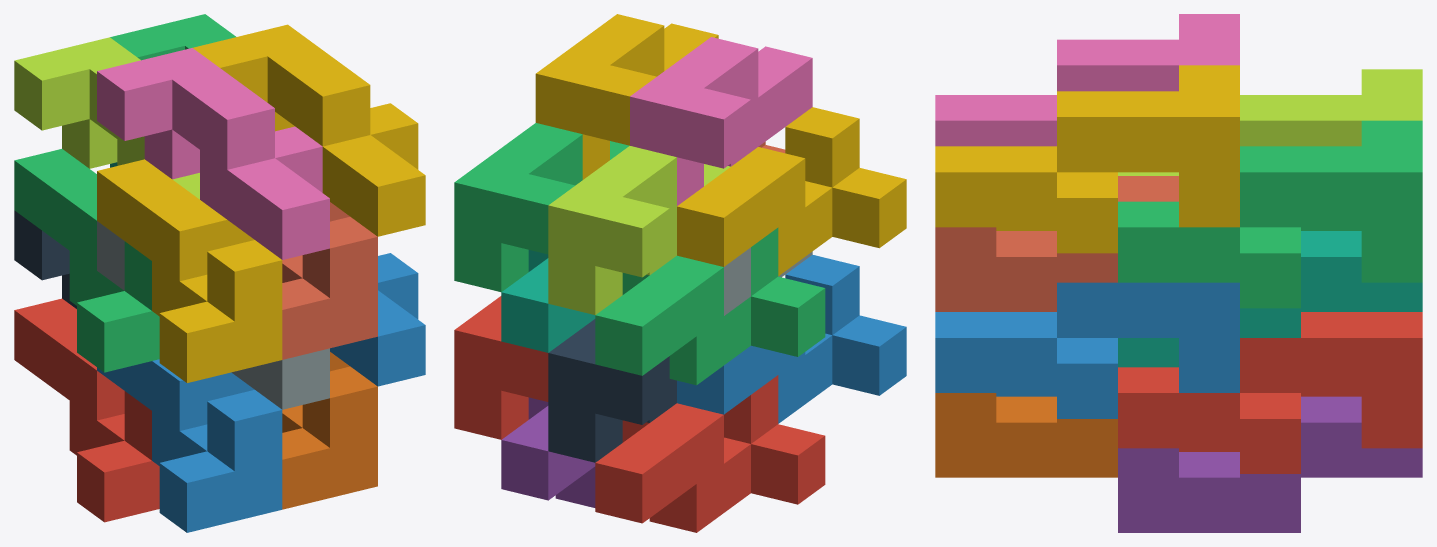
Rendered from tiling.obj.
3 renders of one model, left to right at view 1: azimuth 30°, elevation 25°; view 2: azimuth 150°, elevation 25°; view 3: azimuth 270°, elevation 25°, orthographic. The views are drawn at different scales.
Parts seen in each view (by area): view 1: copy_2_domain_4, copy_1_domain_4, copy_2_domain_8, copy_1_domain_2, copy_1_domain_1, copy_1_domain_3, copy_1_domain_6, copy_1_domain_8, copy_2_domain_3, copy_2_domain_6, copy_2_domain_2, copy_2_domain_7 (+1 smaller); view 2: copy_1_domain_4, copy_1_domain_1, copy_1_domain_3, copy_2_domain_4, copy_2_domain_3, copy_1_domain_2, copy_2_domain_7, copy_2_domain_8, copy_2_domain_1, copy_2_domain_5, copy_1_domain_5, copy_1_domain_7 (+1 smaller); view 3: copy_2_domain_8, copy_2_domain_7, copy_2_domain_5, copy_2_domain_6, copy_1_domain_5, copy_2_domain_4, copy_1_domain_6, copy_1_domain_8, copy_1_domain_7, copy_2_domain_3.
Part boxes in pixels (<box>): copy_2_domain_4: <box>97,48,329,259</box>; copy_1_domain_4: <box>97,159,282,382</box>; copy_2_domain_8: <box>192,24,425,236</box>; copy_1_domain_2: <box>97,359,282,532</box>; copy_1_domain_1: <box>14,298,159,522</box>; copy_1_domain_3: <box>14,149,159,372</box>; copy_1_domain_6: <box>282,352,377,509</box>; copy_1_domain_8: <box>282,202,377,359</box>; copy_2_domain_3: <box>14,37,199,199</box>; copy_2_domain_6: <box>330,253,425,386</box>; copy_2_domain_2: <box>97,221,329,409</box>; copy_2_domain_7: <box>110,14,235,60</box>; copy_1_domain_4: <box>677,107,906,275</box>; copy_1_domain_1: <box>595,375,825,532</box>; copy_1_domain_3: <box>595,227,825,385</box>; copy_2_domain_4: <box>630,37,812,205</box>; copy_2_domain_3: <box>548,146,730,315</box>; copy_1_domain_2: <box>677,254,906,423</box>; copy_2_domain_7: <box>454,123,629,292</box>; copy_2_domain_8: <box>535,14,718,179</box>; copy_2_domain_1: <box>548,319,676,462</box>; copy_2_domain_5: <box>454,296,548,439</box>; copy_1_domain_5: <box>501,397,595,507</box>; copy_1_domain_7: <box>501,250,595,352</box>; copy_2_domain_8: <box>935,65,1239,253</box>; copy_2_domain_7: <box>1118,120,1422,308</box>; copy_2_domain_5: <box>1118,312,1422,473</box>; copy_2_domain_6: <box>935,282,1239,418</box>; copy_1_domain_5: <box>1118,396,1422,532</box>; copy_2_domain_4: <box>935,14,1239,146</box>; copy_1_domain_6: <box>935,393,1117,477</box>; copy_1_domain_8: <box>935,176,1178,311</box>; copy_1_domain_7: <box>1118,231,1422,367</box>; copy_2_domain_3: <box>1118,69,1422,175</box>.
Size of the model in its own units: 6 by 8 by 8.
